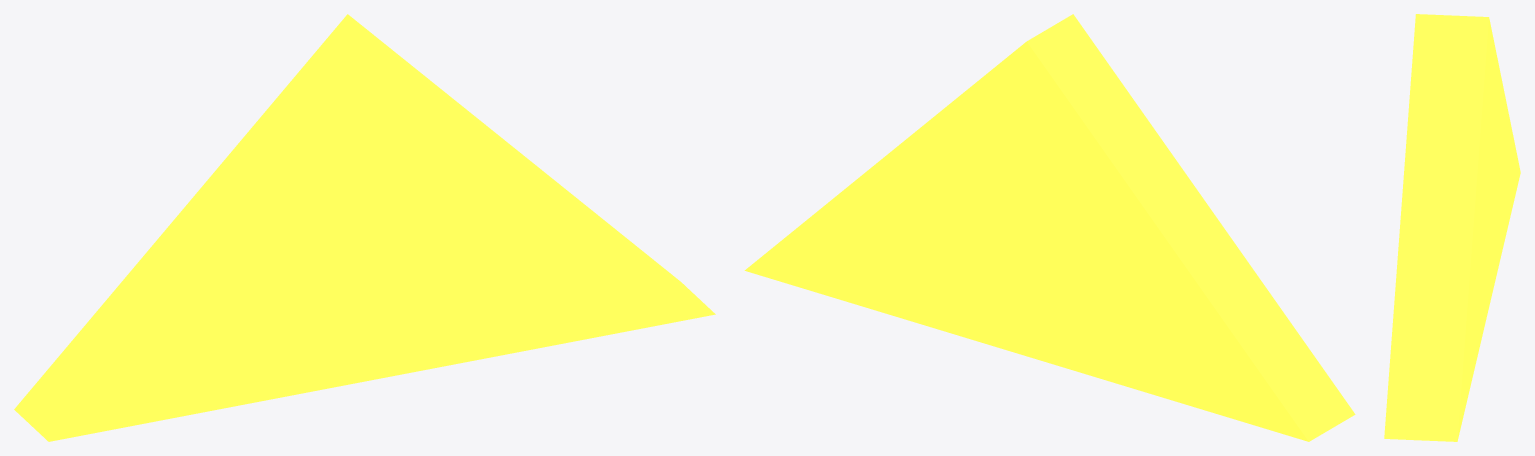
Rendered from arrow_04_pipa3.fbx.
3 views of the same model, side by side, from view 1: azimuth 30°, elevation 25°; view 2: azimuth 150°, elevation 25°; view 3: azimuth 270°, elevation 25° (orthographic). The views are drawn at different scales.
Visible parts, largest first — view 1: Cube.041; view 2: Cube.041; view 3: Cube.041.
Part boxes in pixels (left/top/right/bottom): Cube.041: left=14, top=14, right=715, bottom=441; Cube.041: left=744, top=14, right=1355, bottom=441; Cube.041: left=1384, top=14, right=1520, bottom=441.
Size of the model in its own units: 5.87 by 2.92 by 1.24.
